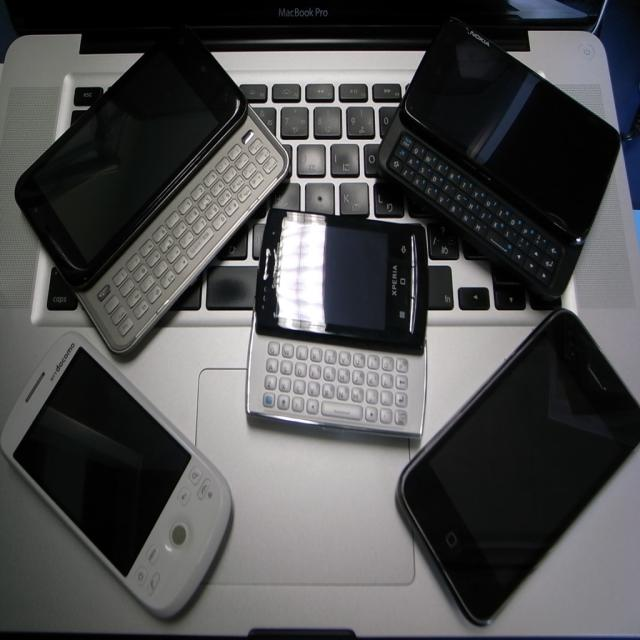Mobile-phone: (14, 16, 293, 357), (394, 311, 640, 630), (379, 10, 624, 298), (0, 314, 233, 609), (248, 207, 433, 439)
